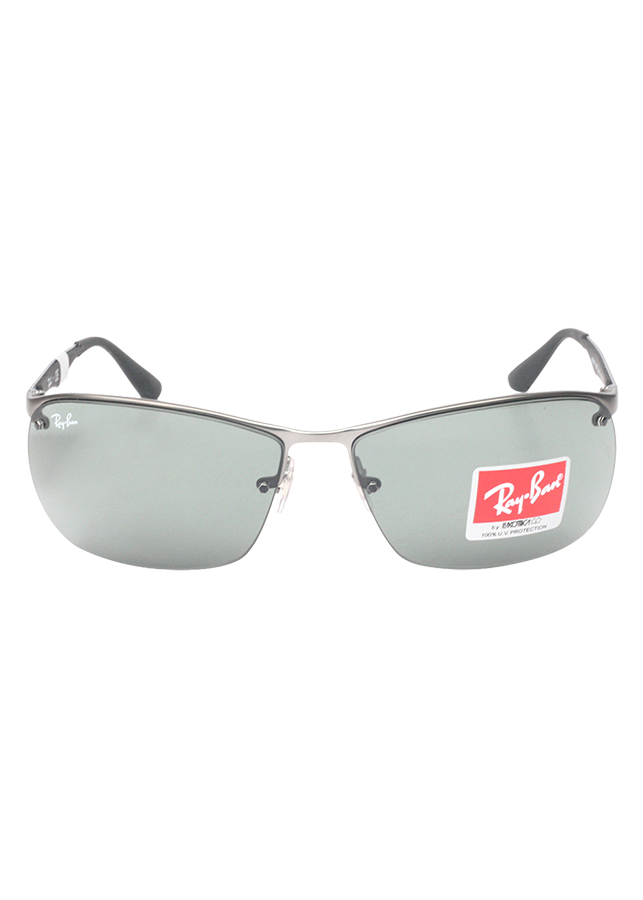Rayban: (469, 457, 571, 527), (44, 407, 84, 435)
